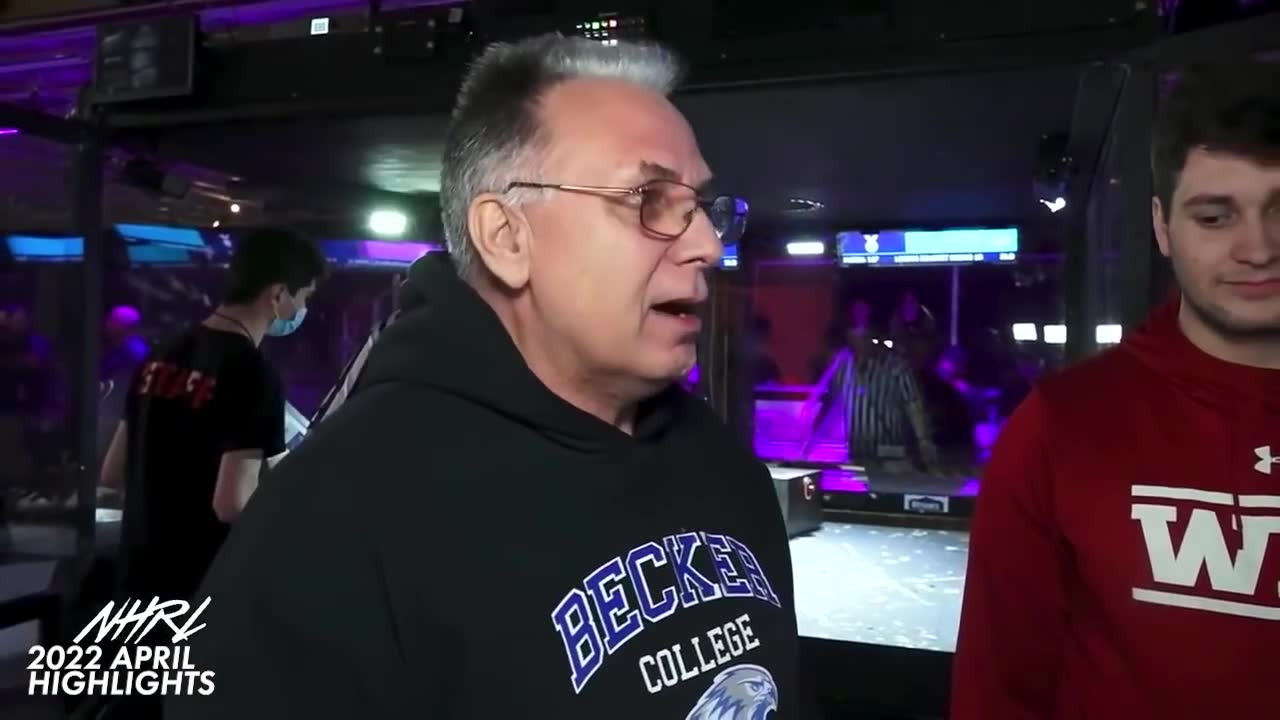combatbot: (683, 665, 779, 720)
housebot: (770, 468, 826, 536)
